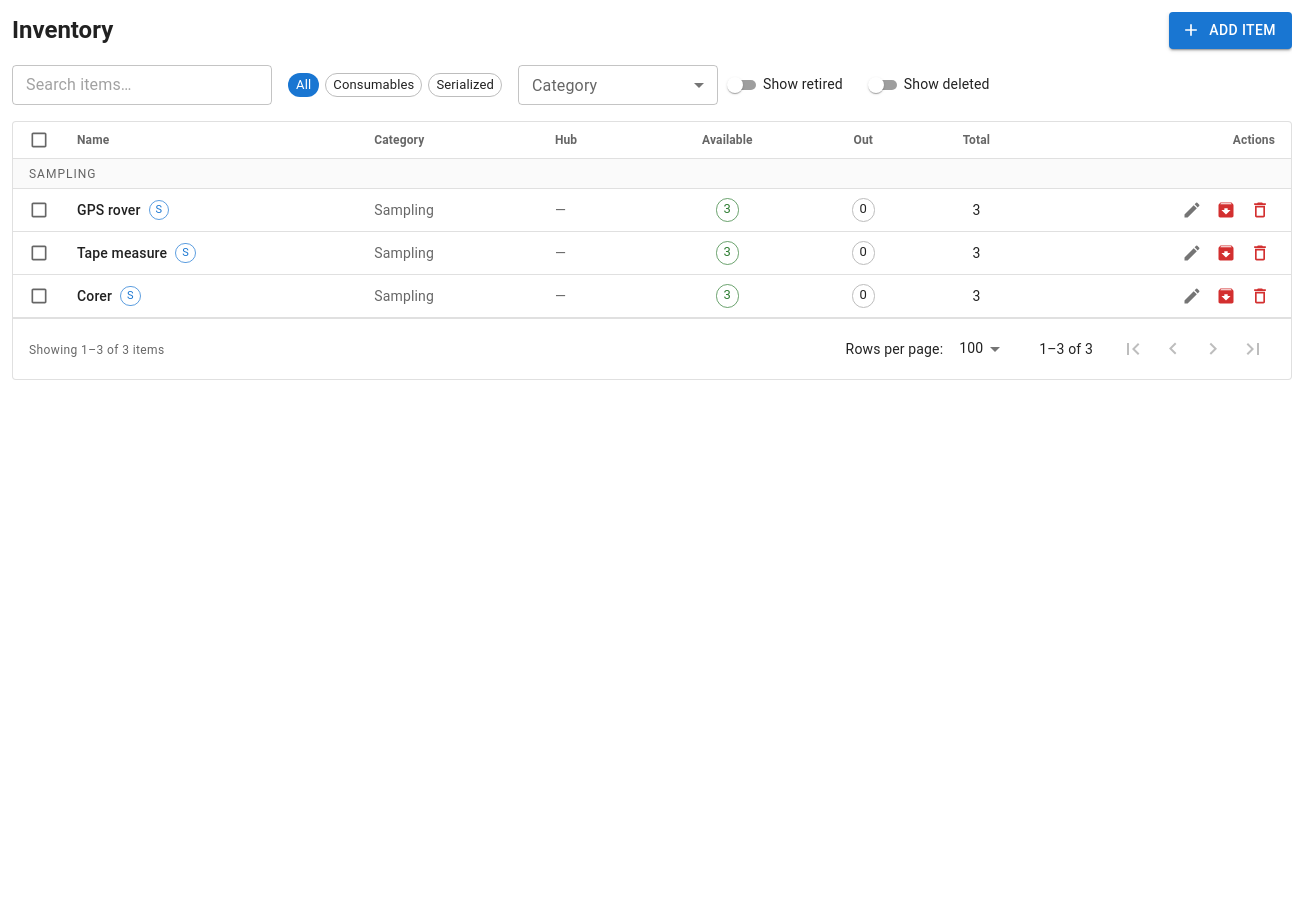
Test case: Show deleted → Restore (D-o · D-q) › fetches deleted=1; rows carry "Deleted 9 Oct · Max" and only a Restore action
The image size is (1304, 912).
Expected: the text "GPS rover" is shown, [77,200,141,220]
Click the 1st checkbox labelled "Show deleted": x=927, y=84 [864,72,990,96]
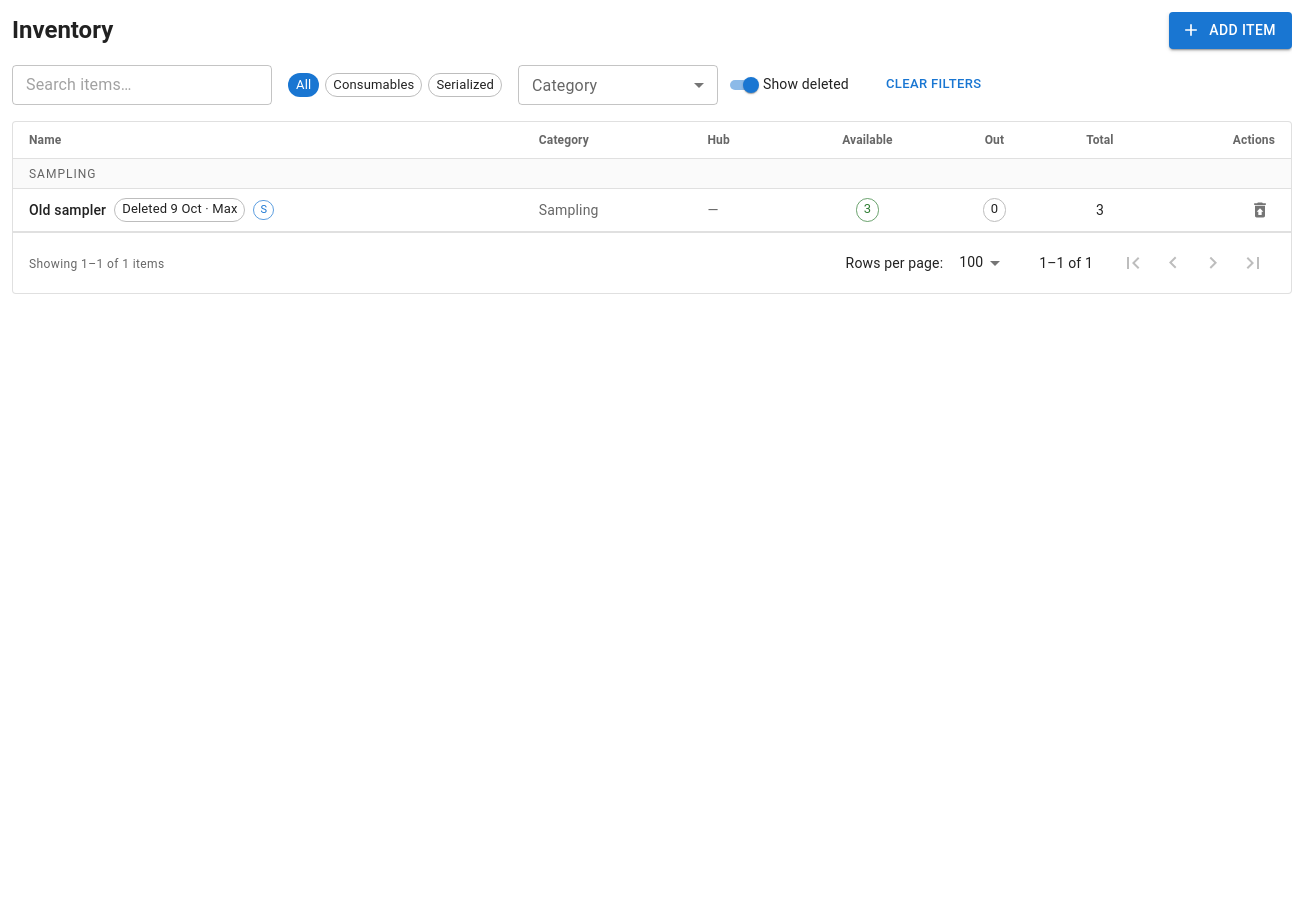
Now the text "Old sampler" is shown, box [29,200,106,220]
Now the text "Deleted 9 Oct · Max" is shown, box [115,200,244,219]
Click the button named "Restore": x=1260, y=210 [1245,195,1275,225]
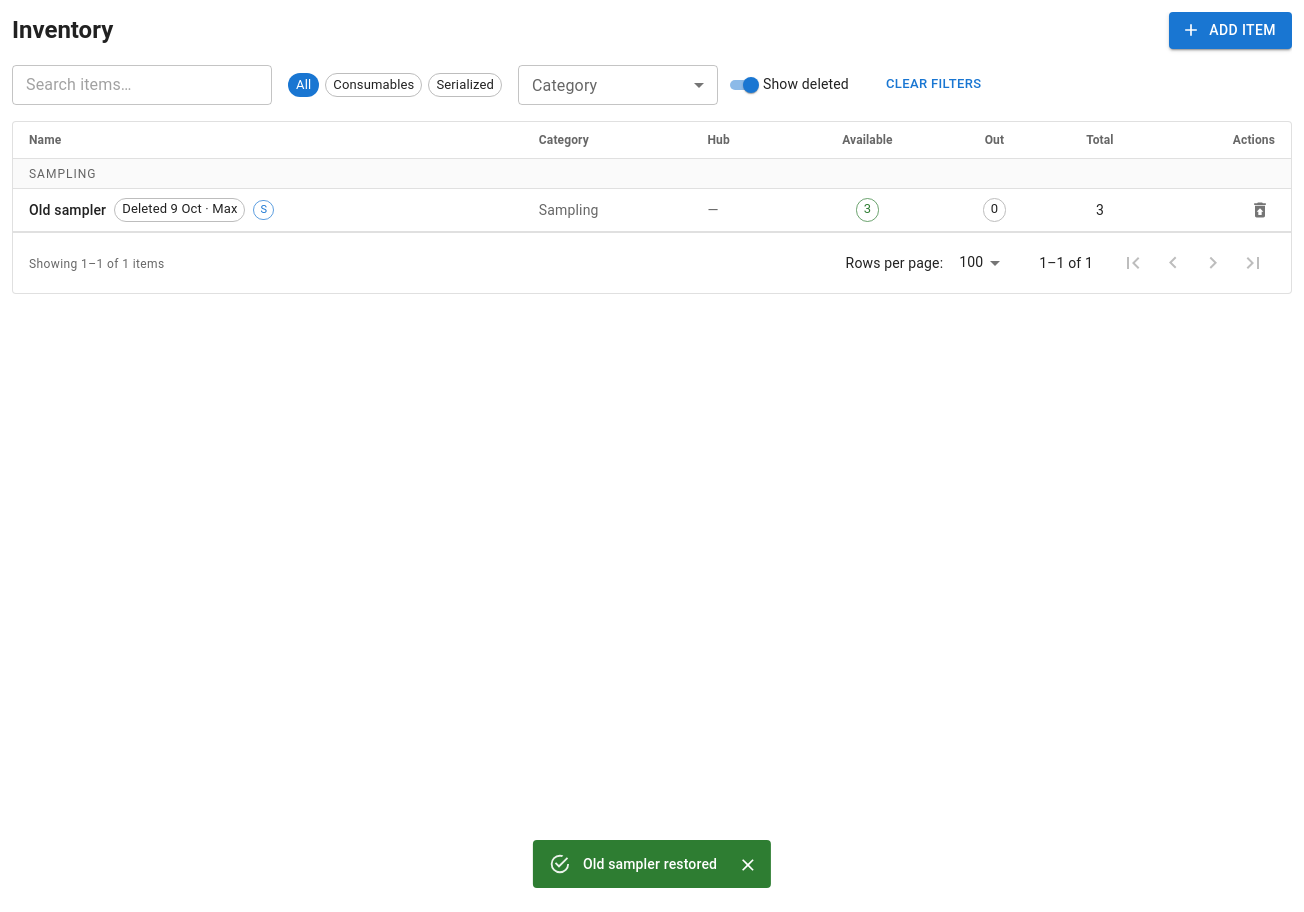
Now the text "Old sampler restored" is shown, box [583,856,717,872]
